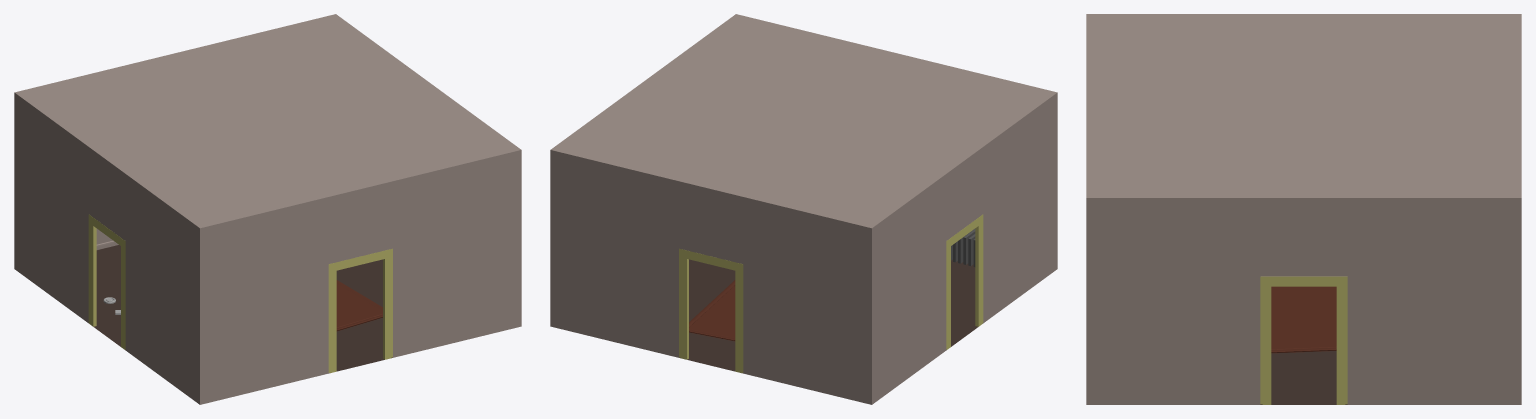
File: Room01_AbandonedRoom.fbx
3 renders of one model, left to right at view 1: azimuth 30°, elevation 25°; view 2: azimuth 150°, elevation 25°; view 3: azimuth 270°, elevation 25°, orthographic. The views are drawn at different scales.
Parts seen in each view (by area): view 1: Roof, WallSlicedPosZ, WallSlicedPosX, WallSlicedPosZ13, WallSlicedPosX13, Floor, DoorFramePosZ, DoorFramePosX, pPlane2, WallSlicedNegX, WallSlicedNegZ; view 2: Roof, WallSlicedNegZ, WallSlicedPosX, WallSlicedNegZ4, WallSlicedPosX13, Floor, DoorFrameNegZ, DoorFramePosX, pPlane2, heater, WallSlicedNegX, WallSlicedPosZ; view 3: Roof, WallSlicedNegX, WallSlicedNegX22, pPlane2, DoorFrameNegX, Floor, WallSlicedPosZ, WallSlicedNegZ, WallSlicedPosX.
Part boxes in pixels (left/top/right/bottom): Roof: left=17, top=15, right=518, bottom=227; WallSlicedPosZ: left=199, top=149, right=521, bottom=364; WallSlicedPosX: left=14, top=92, right=201, bottom=363; WallSlicedPosZ13: left=199, top=286, right=521, bottom=404; WallSlicedPosX13: left=14, top=229, right=202, bottom=404; Floor: left=89, top=245, right=392, bottom=373; DoorFramePosZ: left=328, top=248, right=392, bottom=372; DoorFramePosX: left=88, top=214, right=125, bottom=349; pPlane2: left=336, top=280, right=382, bottom=331; WallSlicedNegX: left=335, top=14, right=521, bottom=286; WallSlicedNegZ: left=14, top=14, right=334, bottom=226; Roof: left=553, top=15, right=1054, bottom=227; WallSlicedNegZ: left=550, top=149, right=872, bottom=364; WallSlicedPosX: left=870, top=92, right=1056, bottom=364; WallSlicedNegZ4: left=550, top=286, right=872, bottom=404; WallSlicedPosX13: left=869, top=230, right=1057, bottom=404; Floor: left=679, top=259, right=982, bottom=373; DoorFrameNegZ: left=679, top=248, right=743, bottom=372; DoorFramePosX: left=946, top=214, right=983, bottom=349; pPlane2: left=689, top=280, right=735, bottom=341; heater: left=951, top=228, right=975, bottom=266; WallSlicedNegX: left=550, top=14, right=736, bottom=286; WallSlicedPosZ: left=737, top=14, right=1057, bottom=228; Roof: left=1088, top=14, right=1519, bottom=197; WallSlicedNegX: left=1086, top=197, right=1521, bottom=357; WallSlicedNegX22: left=1086, top=357, right=1521, bottom=404; pPlane2: left=1271, top=286, right=1336, bottom=353; DoorFrameNegX: left=1260, top=276, right=1347, bottom=404; Floor: left=1260, top=351, right=1347, bottom=404; WallSlicedPosZ: left=1086, top=14, right=1087, bottom=357; WallSlicedNegZ: left=1520, top=14, right=1521, bottom=357; WallSlicedPosX: left=1088, top=14, right=1521, bottom=14.
Size of the model in its own units: 800 by 420 by 800.
